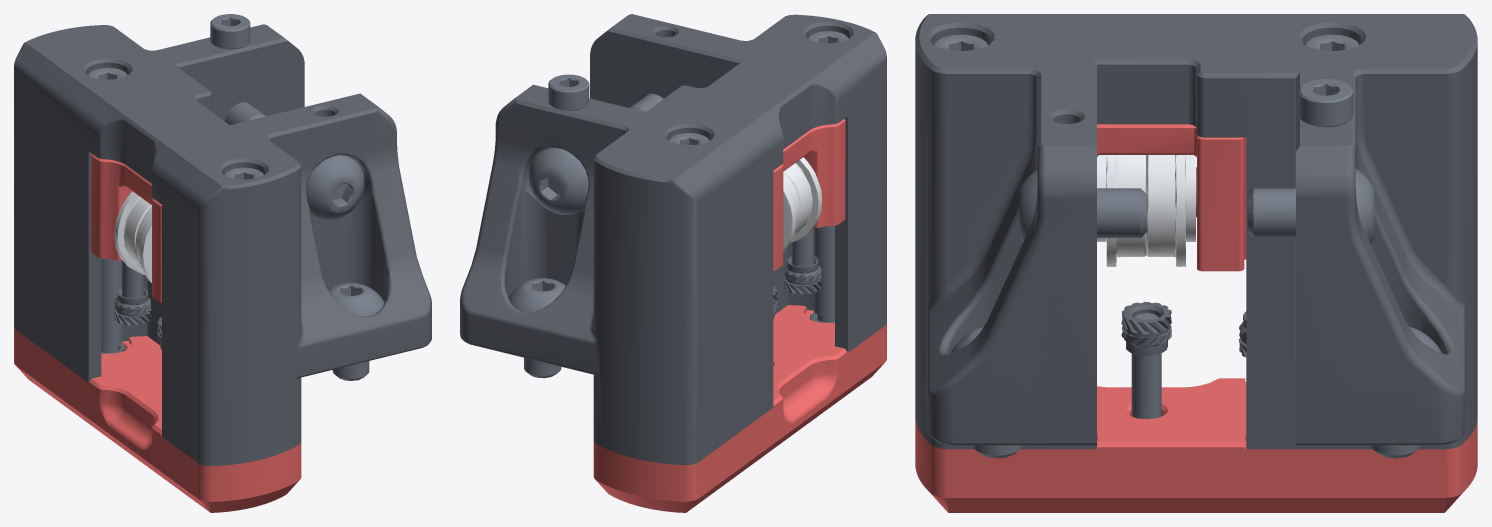
3 renders of one model, left to right at view 1: azimuth 30°, elevation 25°; view 2: azimuth 150°, elevation 25°; view 3: azimuth 270°, elevation 25°, orthographic. The views are drawn at different scales.
Visible parts, largest first — view 1: idler_housing_x2, [a]_idler_front_x2, [a]_idler_carrier_a_x2, m5x10_bhcs__2__4, m5x10_bhcs__2__3, f695_zz__2__24, ptfe__35mm_, m3x8_shcs__2_, m3_heat_set__3__6, f695_zz__2_, m3x25_shcs__1__18, m5x10_bhcs__2__5 (+1 smaller); view 2: idler_housing_x2, [a]_idler_front_x2, [a]_idler_carrier_a_x2, m5x10_bhcs__2__5, m5x10_bhcs__2_, f695_zz__2_, ptfe__35mm__13, m3x8_shcs__2_, m3_heat_set__3__7, f695_zz__2__24, m3x25_shcs__1_, m3x40_shcs__1__15; view 3: idler_housing_x2, [a]_idler_front_x2, [a]_idler_carrier_a_x2, f695_zz__2__24, m5x10_bhcs__2__5, m5x10_bhcs__2__4, m3x8_shcs__2_, f695_zz__2_, m3_heat_set__3_, m3x16_shcs__1_, m5_1mm_spacer__2__25, m5x10_bhcs__2_ (+3 smaller).
Boxes of the visible parts, x1,y1,x2,y2 form: idler_housing_x2: (14, 24, 431, 465); [a]_idler_front_x2: (14, 327, 301, 512); [a]_idler_carrier_a_x2: (91, 154, 161, 302); m5x10_bhcs__2__4: (306, 155, 364, 220); m5x10_bhcs__2__3: (328, 283, 384, 380); f695_zz__2__24: (114, 191, 151, 274); ptfe__35mm_: (101, 258, 122, 346); m3x8_shcs__2_: (210, 14, 250, 49); m3_heat_set__3__6: (114, 288, 151, 325); f695_zz__2_: (135, 206, 151, 282); m3x25_shcs__1__18: (122, 260, 143, 298); m5x10_bhcs__2__5: (224, 102, 265, 124); idler_housing_x2: (460, 14, 886, 465); [a]_idler_front_x2: (593, 305, 886, 512); [a]_idler_carrier_a_x2: (773, 119, 845, 270); m5x10_bhcs__2__5: (528, 148, 588, 214); m5x10_bhcs__2_: (508, 278, 565, 378); f695_zz__2_: (783, 157, 821, 242); ptfe__35mm__13: (813, 225, 834, 316); m3x8_shcs__2_: (548, 74, 589, 110); m3_heat_set__3__7: (784, 256, 821, 294); f695_zz__2__24: (783, 172, 800, 250); m3x25_shcs__1_: (791, 227, 813, 294); m3x40_shcs__1__15: (808, 31, 848, 322); idler_housing_x2: (915, 14, 1477, 449); [a]_idler_front_x2: (915, 378, 1477, 512); [a]_idler_carrier_a_x2: (1097, 124, 1246, 271); f695_zz__2__24: (1146, 155, 1185, 266); m5x10_bhcs__2__5: (1247, 169, 1374, 243); m5x10_bhcs__2__4: (1019, 169, 1146, 242); m3x8_shcs__2_: (1298, 79, 1353, 127); f695_zz__2_: (1106, 155, 1146, 266); m3_heat_set__3_: (1121, 301, 1171, 355); m3x16_shcs__1_: (1131, 313, 1161, 419); m5_1mm_spacer__2__25: (1186, 155, 1195, 241); m5x10_bhcs__2_: (1370, 327, 1442, 458).
Size of the model in its own units: 0.037 by 0.0532 by 0.0565.
